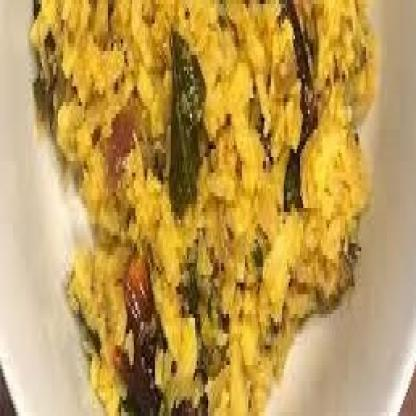poha: (28, 0, 377, 416)
